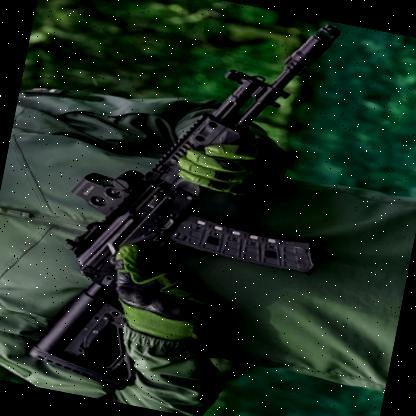rifle: (11, 0, 377, 416)
